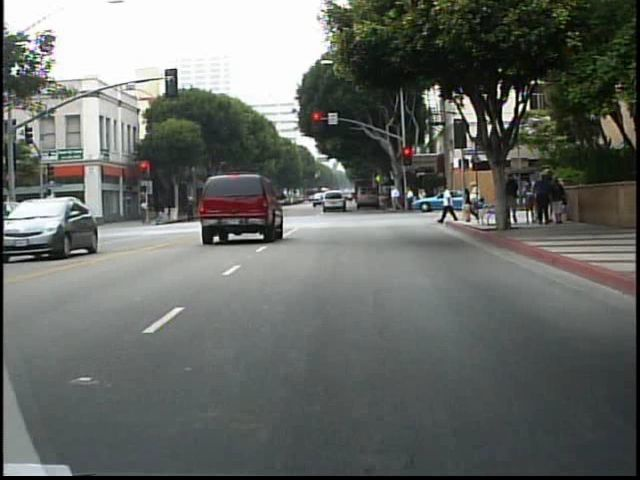person: (506, 173, 521, 228), (521, 180, 538, 227), (440, 183, 457, 225), (468, 179, 482, 225), (458, 181, 472, 225), (184, 192, 198, 226), (140, 197, 148, 226)
